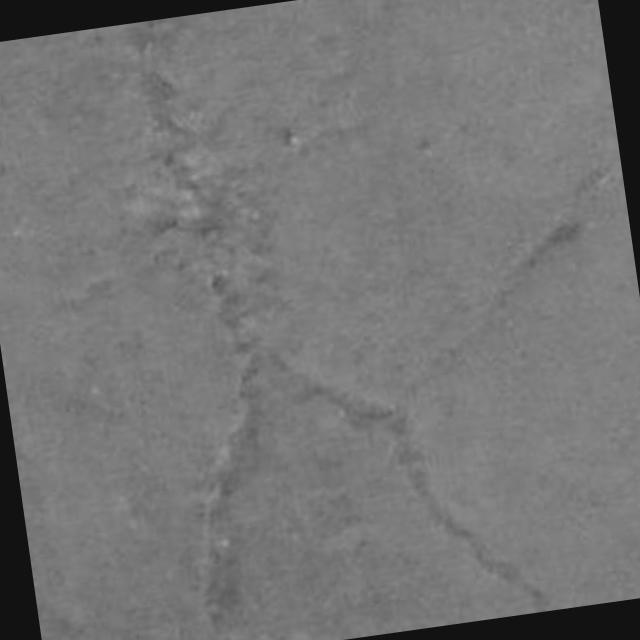crack: (128, 20, 273, 628), (395, 433, 549, 612)
